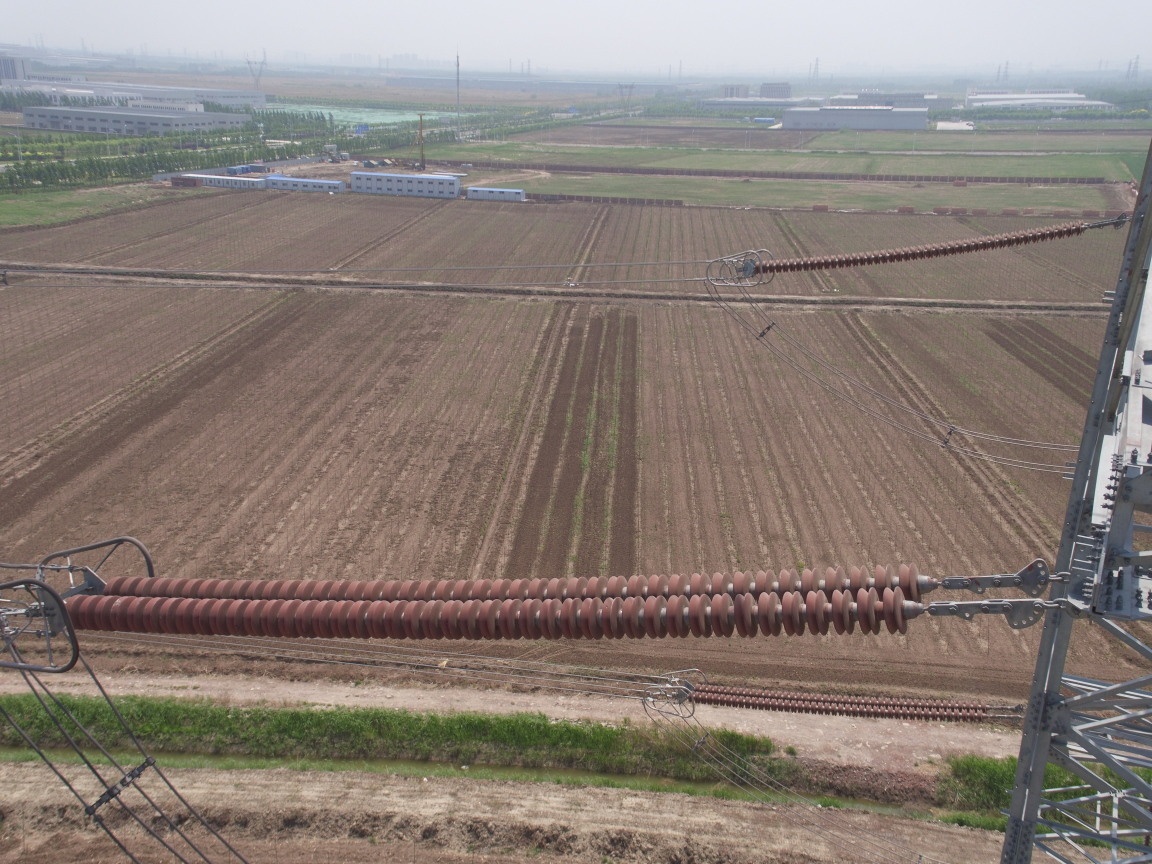insulator: (50, 560, 997, 644), (752, 217, 1111, 278)
